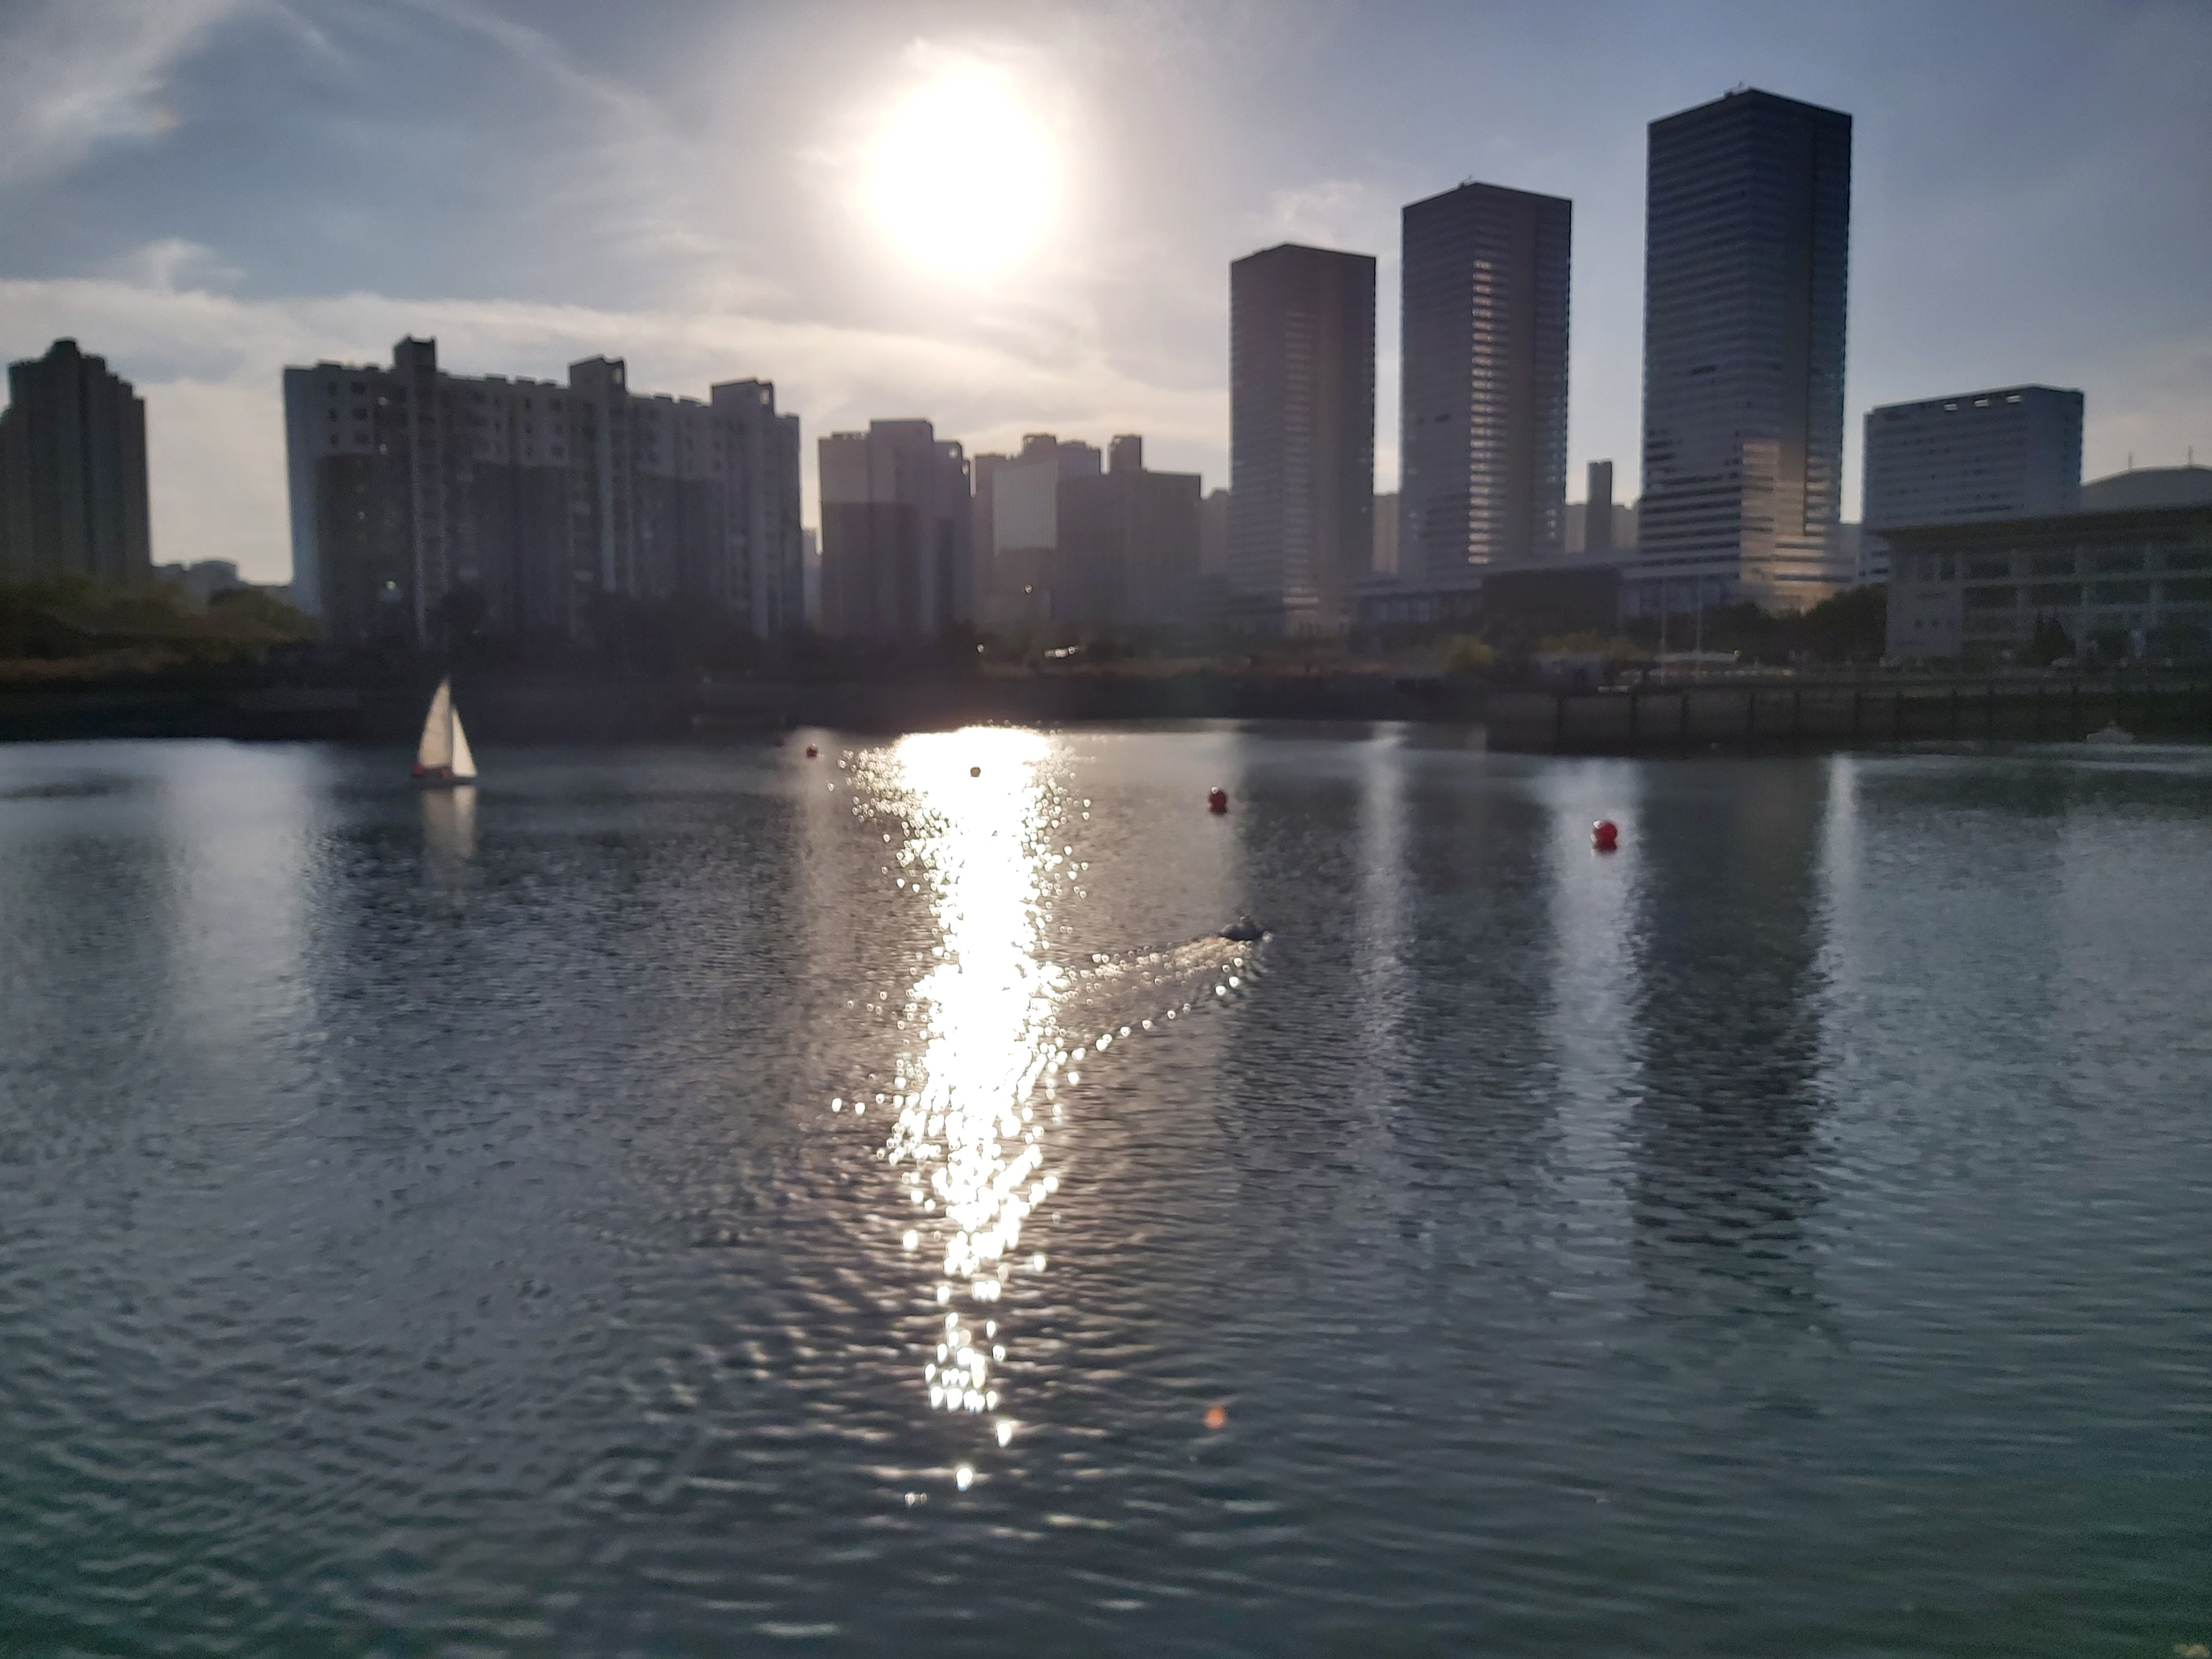ball: (1587, 810, 1627, 854), (1211, 782, 1233, 814)
boat: (406, 673, 488, 795), (1221, 911, 1266, 943)
